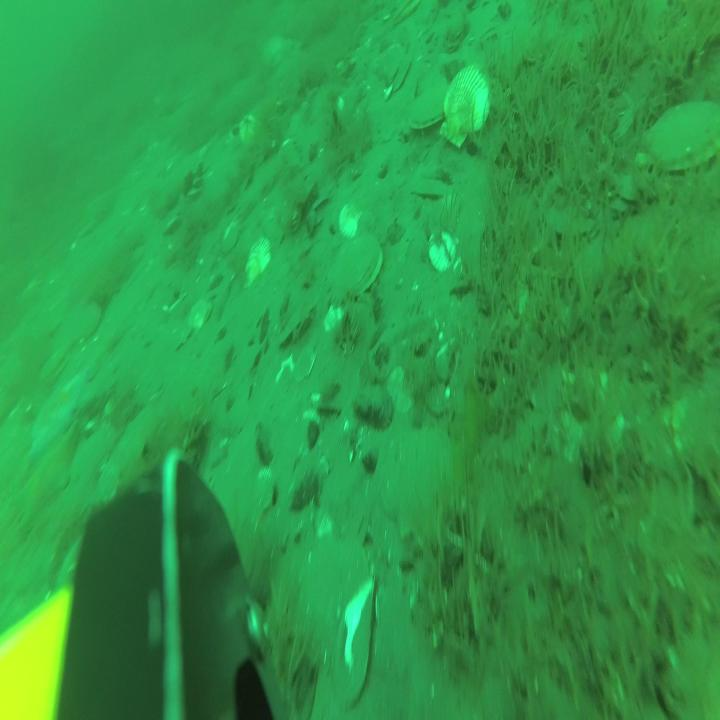scallop: (635, 102, 720, 172), (332, 232, 382, 304), (441, 72, 489, 142), (410, 78, 449, 127), (427, 228, 461, 270), (384, 55, 411, 102), (245, 240, 270, 284), (379, 41, 401, 90), (41, 345, 68, 384), (224, 210, 245, 254), (82, 296, 100, 343), (393, 0, 421, 29), (190, 299, 210, 335), (337, 201, 358, 235), (239, 114, 259, 146)
starfish: (32, 369, 90, 476)
